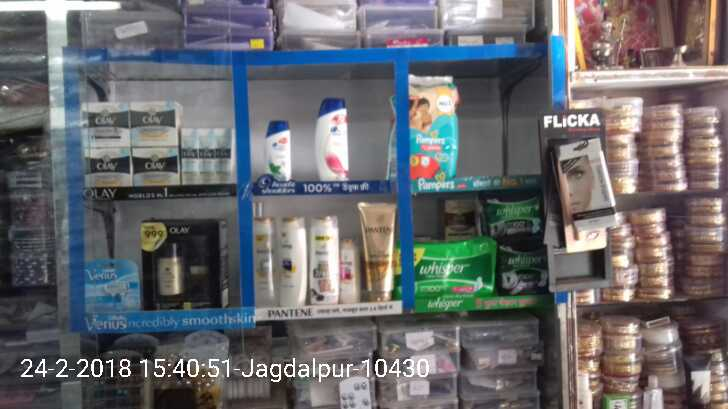venus: (88, 258, 139, 311)
